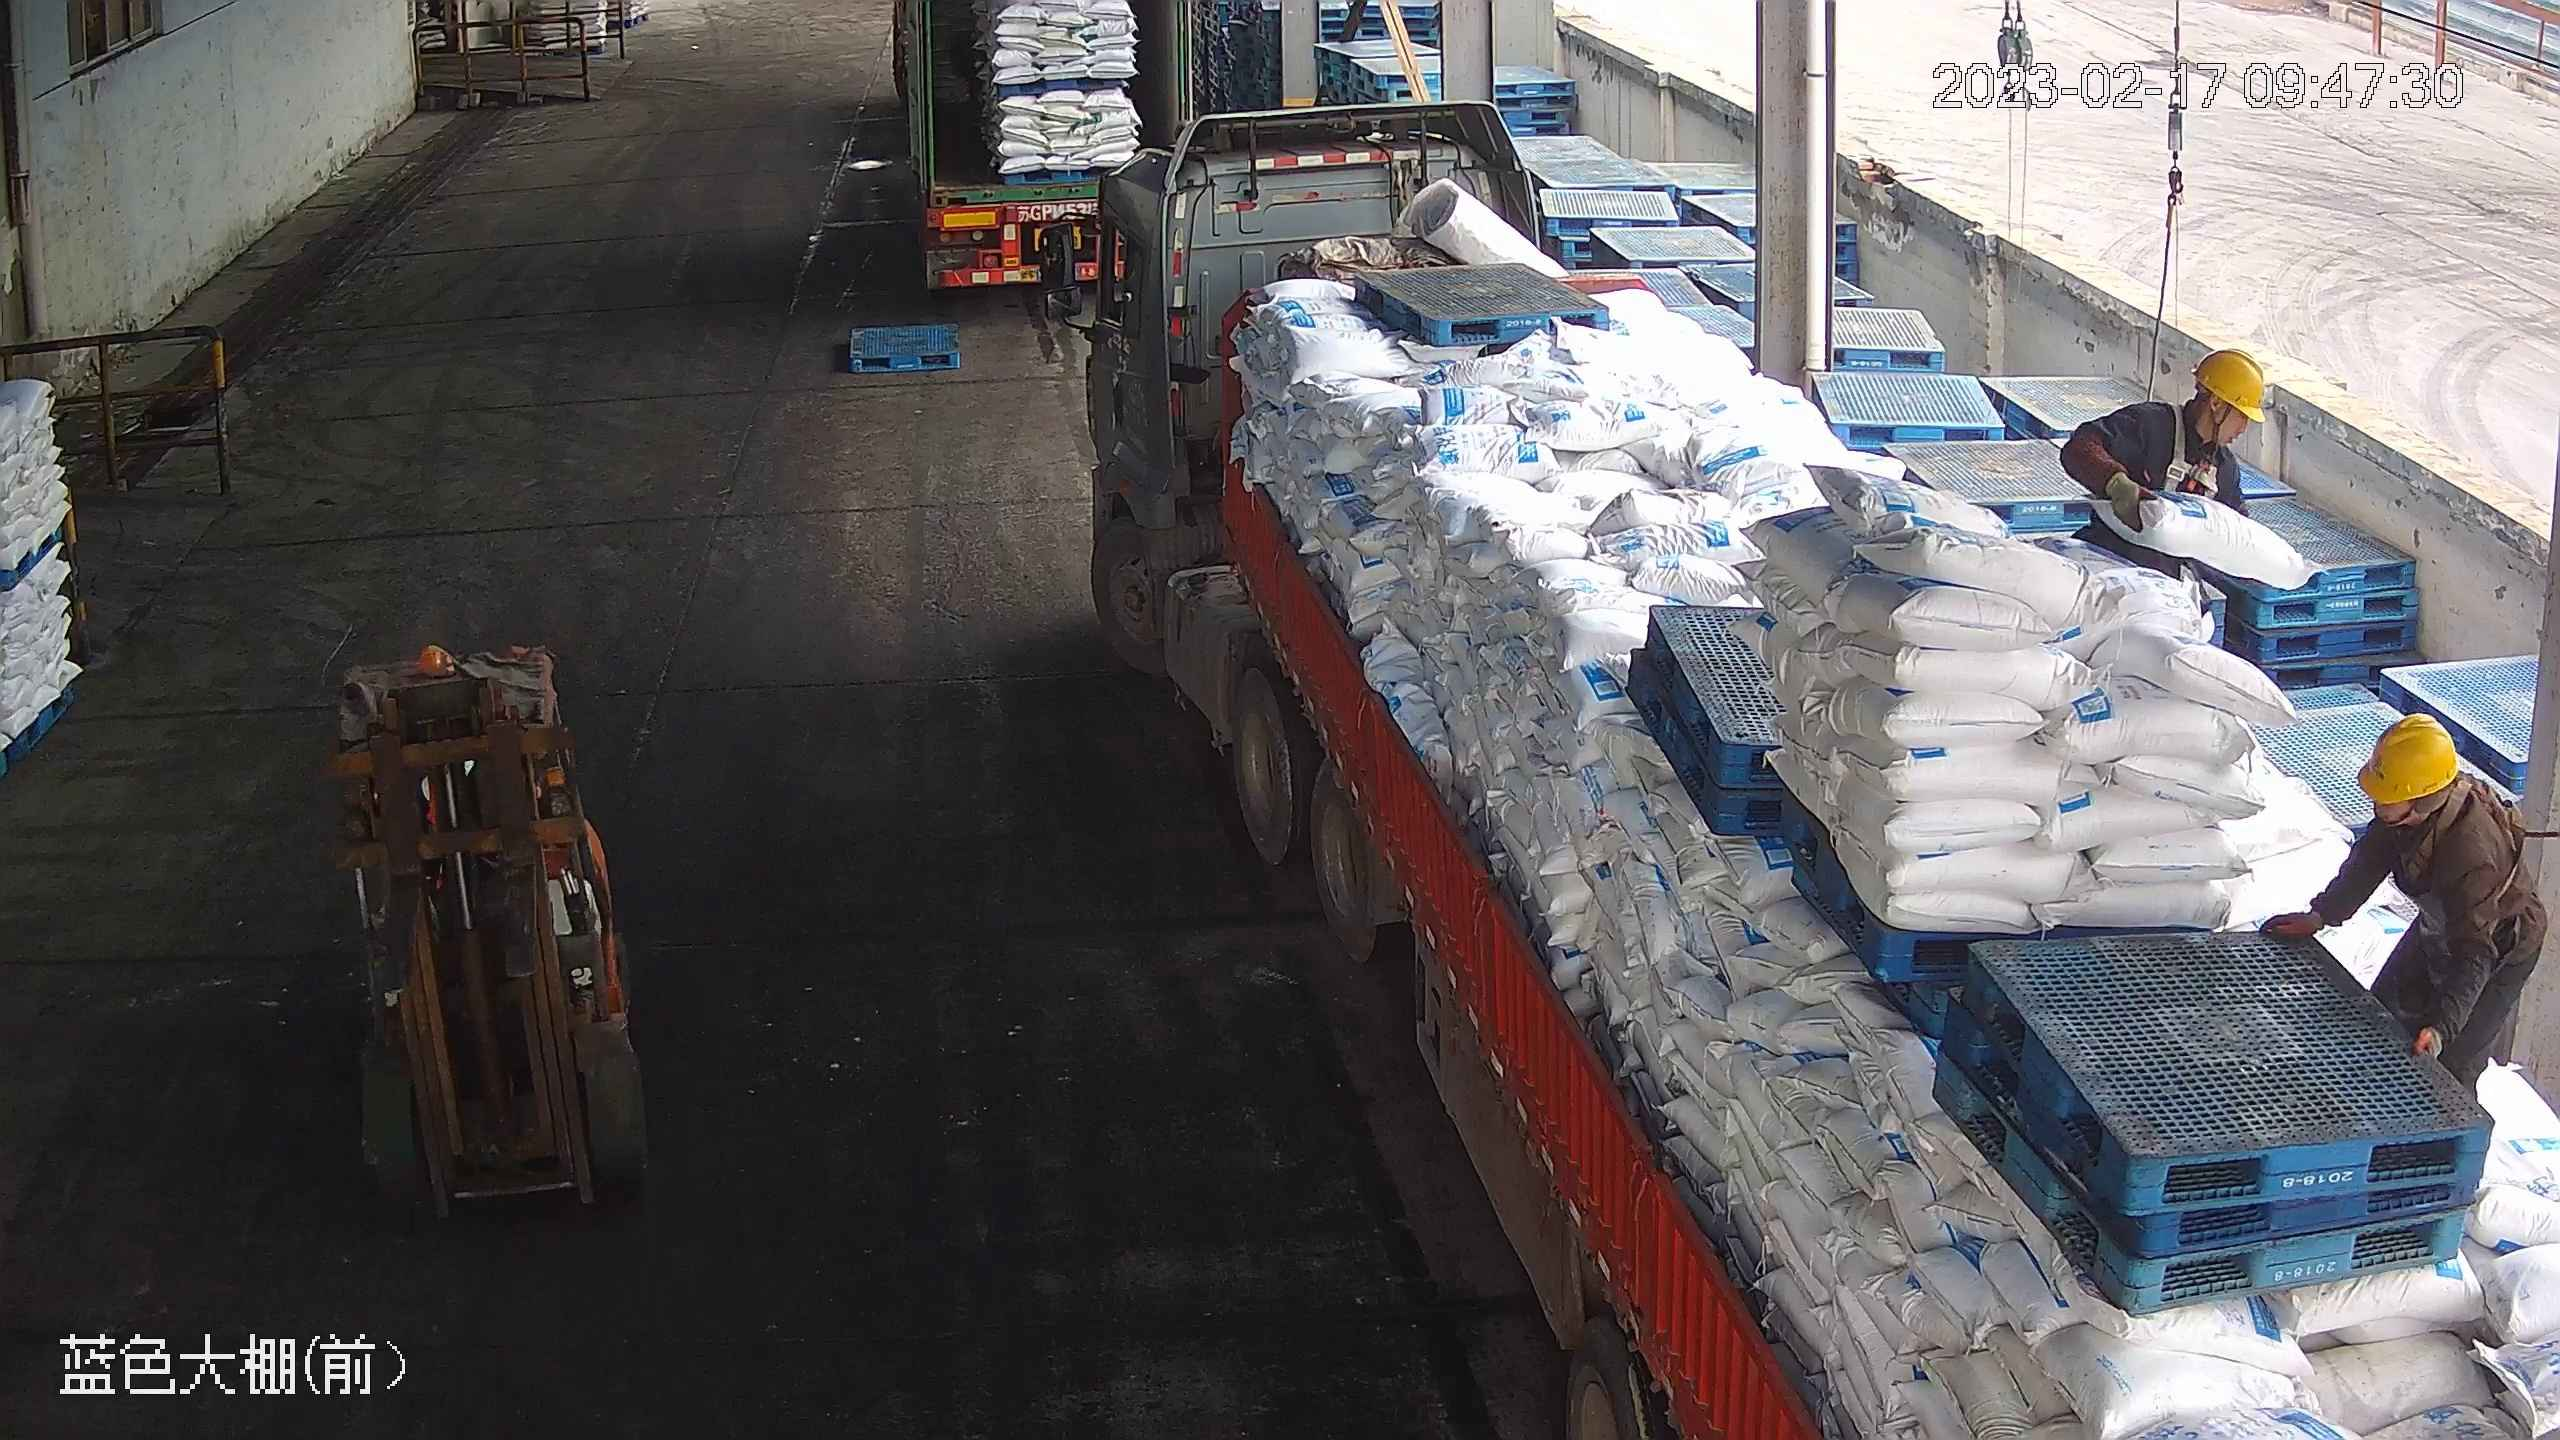belt: (2392, 785, 2516, 897), (2133, 410, 2215, 494)
head: (2335, 710, 2514, 880), (2113, 341, 2272, 480)
helmet: (2351, 710, 2463, 804), (2194, 346, 2272, 427)
people: (2275, 708, 2551, 1125)
truck: (1048, 110, 2550, 1438), (879, 1, 1214, 273)
